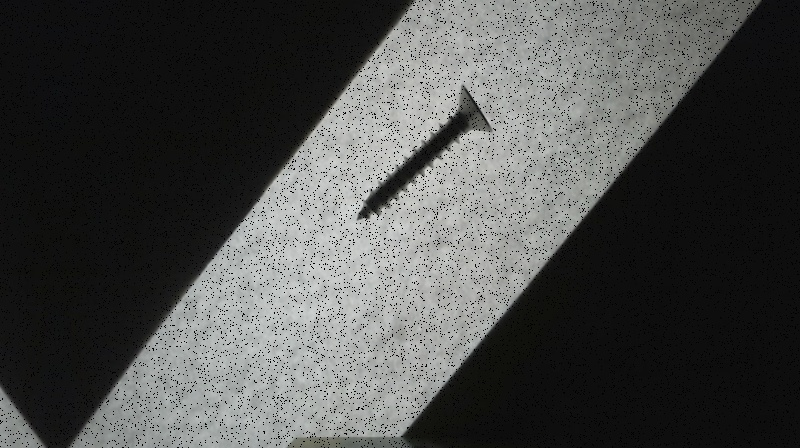S001: (353, 83, 495, 225)
